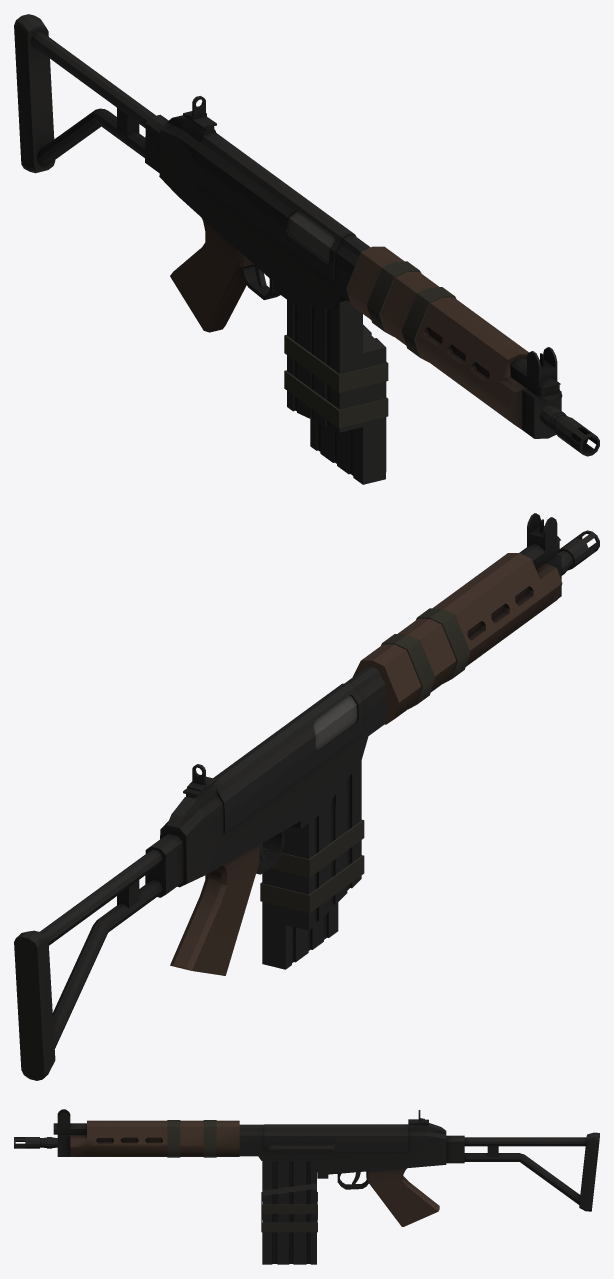
Rendered from Battle_Rifle.fbx.
3 views of the same model, one above another, from view 1: azimuth 30°, elevation 25°; view 2: azimuth 150°, elevation 25°; view 3: azimuth 270°, elevation 25° (orthographic). The views are drawn at different scales.
Parts seen in each view (by area): view 1: Body, Handguard_long, Stock_Skeleton, Magazine, Magazine_Duel, Magazine_Tape_1, Magazine_Tape_2, Barrel_Short_Rifle, Barrel_Tape_1, Barrel_Tape_2; view 2: Body, Stock_Skeleton, Handguard_long, Magazine, Magazine_Duel, Magazine_Tape_2, Magazine_Tape_1, Barrel_Tape_1, Barrel_Tape_2, Barrel_Short_Rifle; view 3: Body, Handguard_long, Stock_Skeleton, Magazine_Duel, Magazine, Magazine_Tape_2, Magazine_Tape_1, Barrel_Tape_1, Barrel_Tape_2, Barrel_Short_Rifle, Bolt.
Part boxes in pixels (bbox=[...]): Body: bbox=[170, 111, 370, 332]; Handguard_long: bbox=[346, 246, 562, 438]; Stock_Skeleton: bbox=[14, 14, 185, 194]; Magazine: bbox=[287, 300, 362, 432]; Magazine_Duel: bbox=[310, 324, 386, 484]; Magazine_Tape_1: bbox=[284, 334, 388, 392]; Magazine_Tape_2: bbox=[284, 370, 388, 428]; Barrel_Short_Rifle: bbox=[540, 406, 599, 456]; Barrel_Tape_1: bbox=[401, 287, 456, 362]; Barrel_Tape_2: bbox=[366, 261, 421, 336]; Body: bbox=[170, 667, 386, 975]; Stock_Skeleton: bbox=[14, 796, 204, 1080]; Handguard_long: bbox=[352, 513, 562, 724]; Magazine: bbox=[285, 761, 361, 930]; Magazine_Duel: bbox=[262, 830, 338, 969]; Magazine_Tape_2: bbox=[260, 855, 364, 913]; Magazine_Tape_1: bbox=[263, 819, 364, 877]; Barrel_Tape_1: bbox=[416, 608, 470, 683]; Barrel_Tape_2: bbox=[381, 634, 435, 709]; Barrel_Short_Rifle: bbox=[557, 530, 599, 575]; Body: bbox=[239, 1119, 439, 1226]; Handguard_long: bbox=[53, 1109, 239, 1156]; Stock_Skeleton: bbox=[428, 1123, 599, 1211]; Magazine_Duel: bbox=[262, 1183, 316, 1264]; Magazine: bbox=[262, 1161, 316, 1190]; Magazine_Tape_2: bbox=[261, 1213, 317, 1232]; Magazine_Tape_1: bbox=[261, 1192, 317, 1213]; Barrel_Tape_1: bbox=[167, 1120, 180, 1157]; Barrel_Tape_2: bbox=[203, 1120, 216, 1157]; Barrel_Short_Rifle: bbox=[14, 1137, 57, 1148]; Bolt: bbox=[264, 1145, 334, 1152].
Size of the model in its own units: 8.68 by 35.74 by 131.
